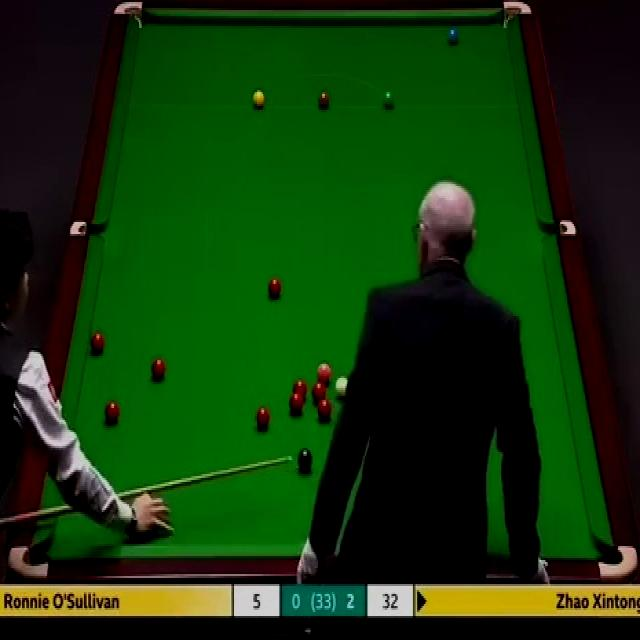pocket: (597, 540, 639, 580), (9, 546, 46, 579), (502, 0, 534, 34), (110, 0, 144, 29), (70, 220, 107, 237), (540, 221, 578, 237)
